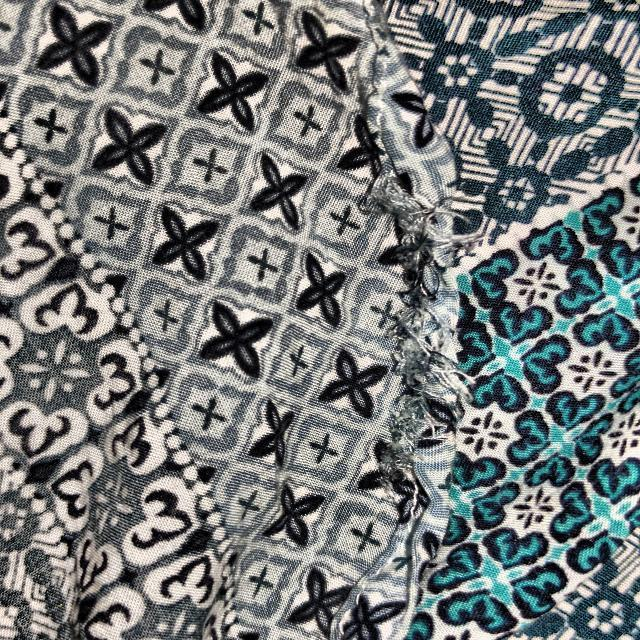gray stitch: (345, 162, 465, 540)
